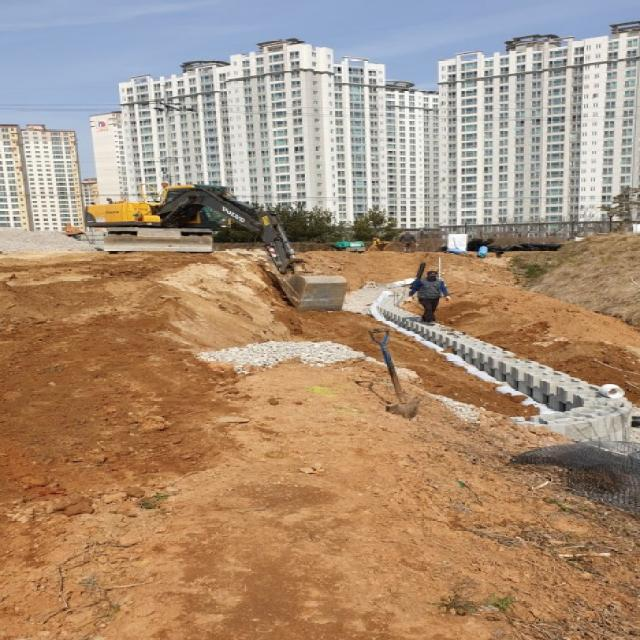excavator: (84, 185, 348, 311)
